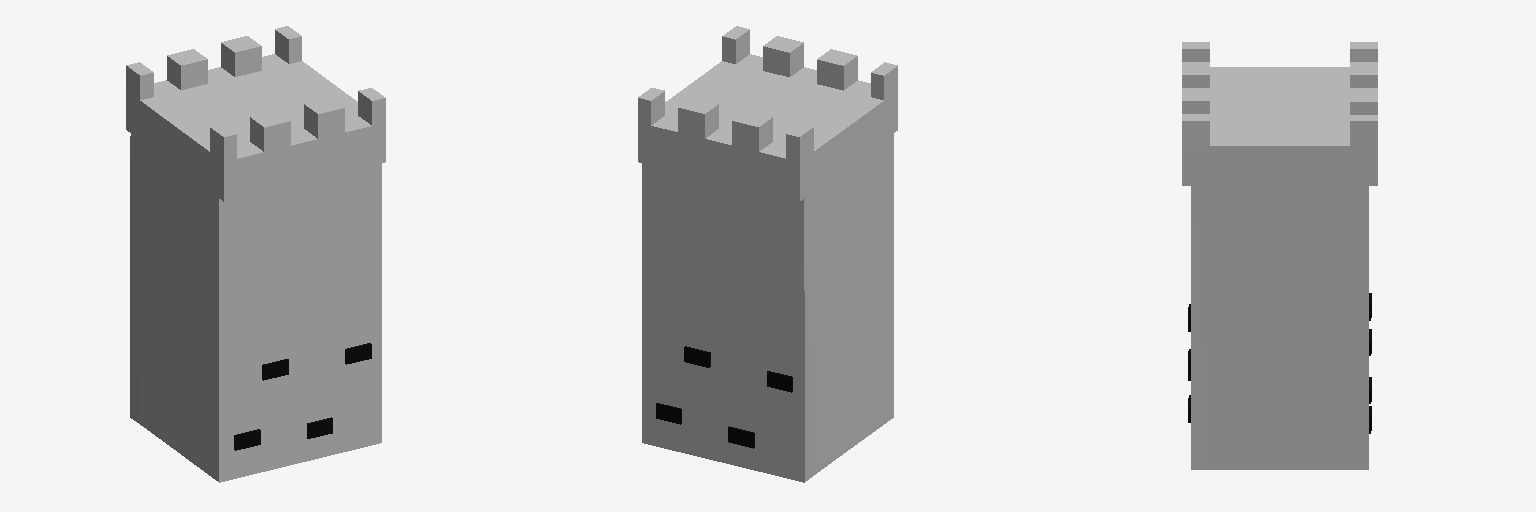
The model's file is Wall.obj.
3 views of the same model, side by side, from view 1: azimuth 30°, elevation 25°; view 2: azimuth 150°, elevation 25°; view 3: azimuth 270°, elevation 25° (orthographic).
Visible parts, largest first — view 1: TallWallBricks_Cube.001; view 2: TallWallBricks_Cube.001; view 3: TallWallBricks_Cube.001.
Part boxes in pixels (x1,y1,x2,y2): TallWallBricks_Cube.001: (126,26,385,482); TallWallBricks_Cube.001: (638,26,897,482); TallWallBricks_Cube.001: (1182,42,1377,469).
Bounding box in the file's own units: 0.9723 × 1.99 × 1.02.